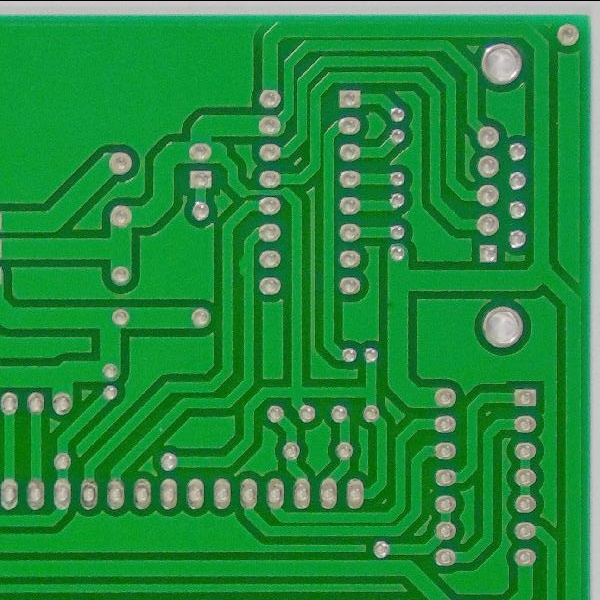spur: (233, 245, 257, 287)
